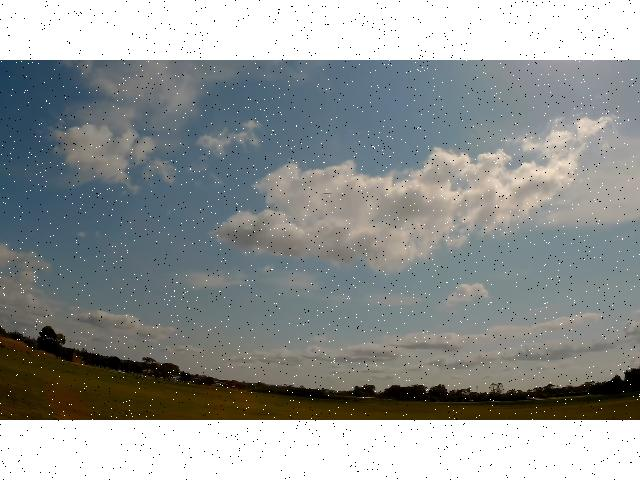Anti-Drone: (309, 184, 341, 202)
